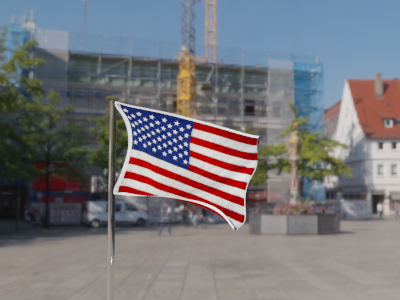America flag: (113, 100, 261, 231)
